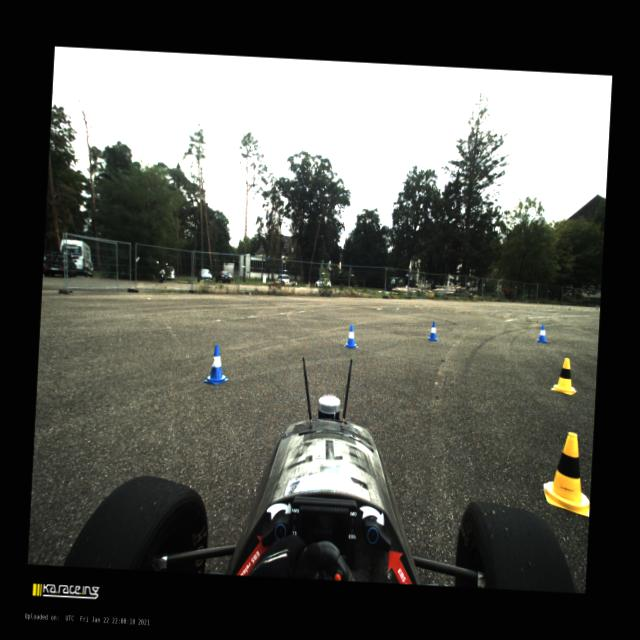blue_cone: (203, 344, 230, 386), (344, 324, 360, 348), (428, 321, 440, 342), (536, 324, 549, 343)
yellow_cone: (542, 432, 593, 517), (551, 357, 579, 395)
